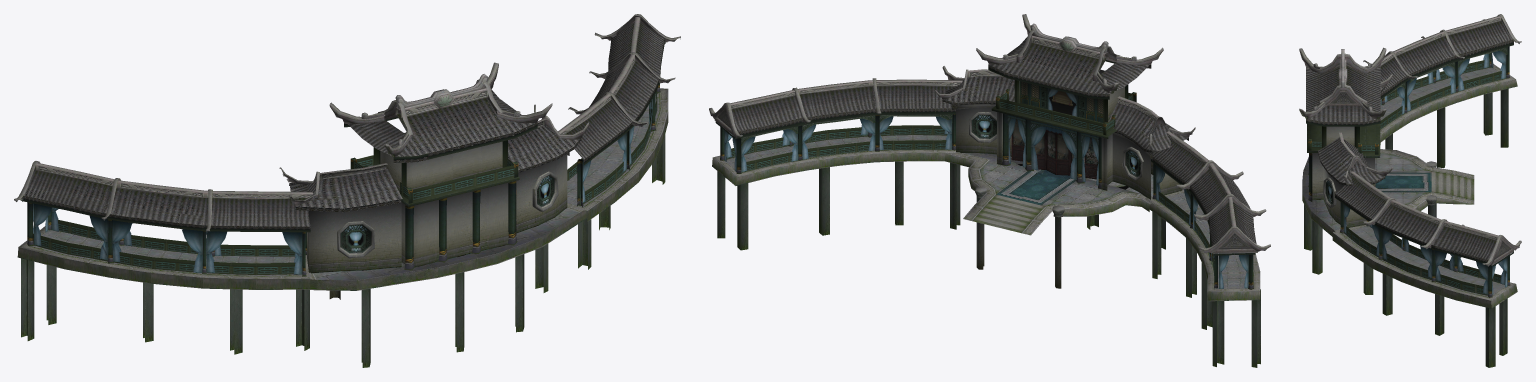
Rendered from SC001Jjianzhu_10.FBX.
3 views of the same model, side by side, from view 1: azimuth 30°, elevation 25°; view 2: azimuth 150°, elevation 25°; view 3: azimuth 270°, elevation 25° (orthographic). The views are drawn at different scales.
Visible parts, largest first — view 1: SC001Jjianzhu_10; view 2: SC001Jjianzhu_10; view 3: SC001Jjianzhu_10.
Boxes of the visible parts, x1,y1,x2,y2 form: SC001Jjianzhu_10: (14,14,680,367); SC001Jjianzhu_10: (709,14,1270,367); SC001Jjianzhu_10: (1299,14,1521,367).
Bounding box in the file's own units: 28.56 × 10.09 × 10.97.
